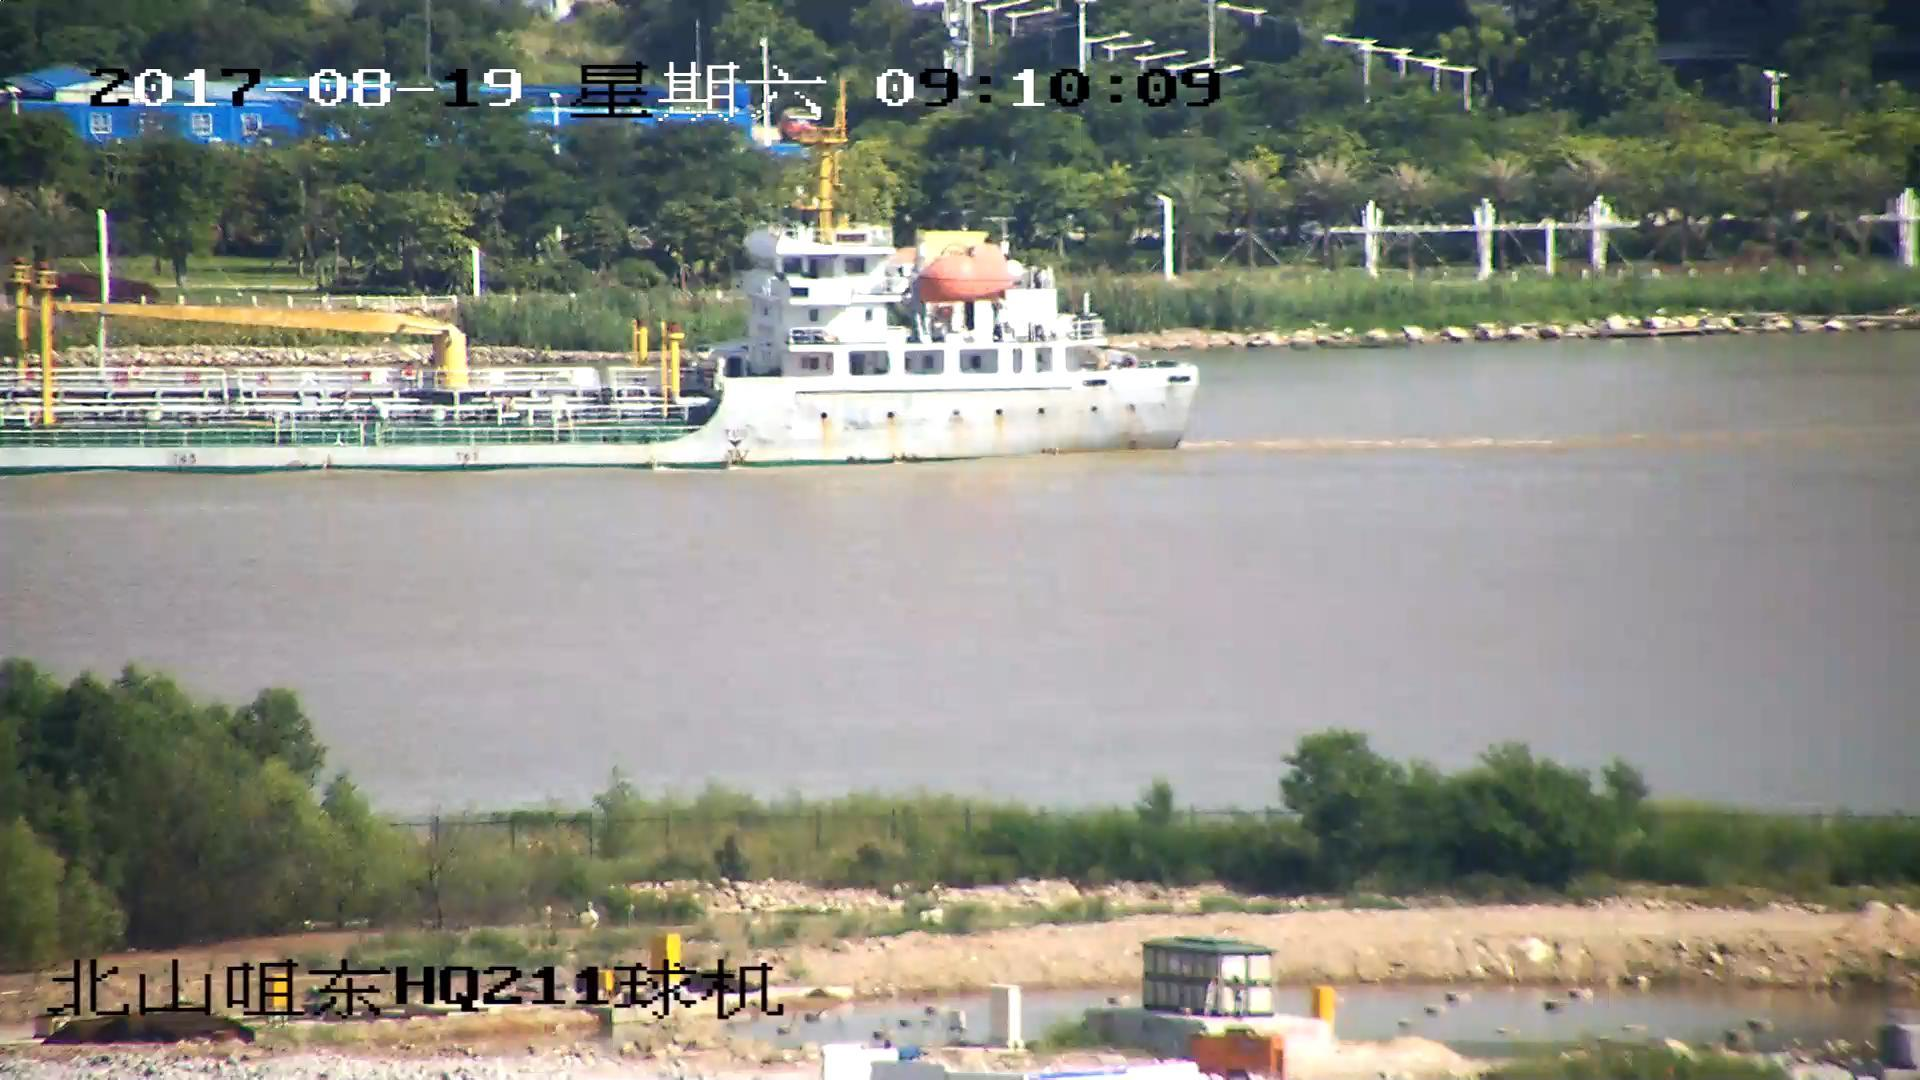Ship: (3, 136, 1208, 469)
